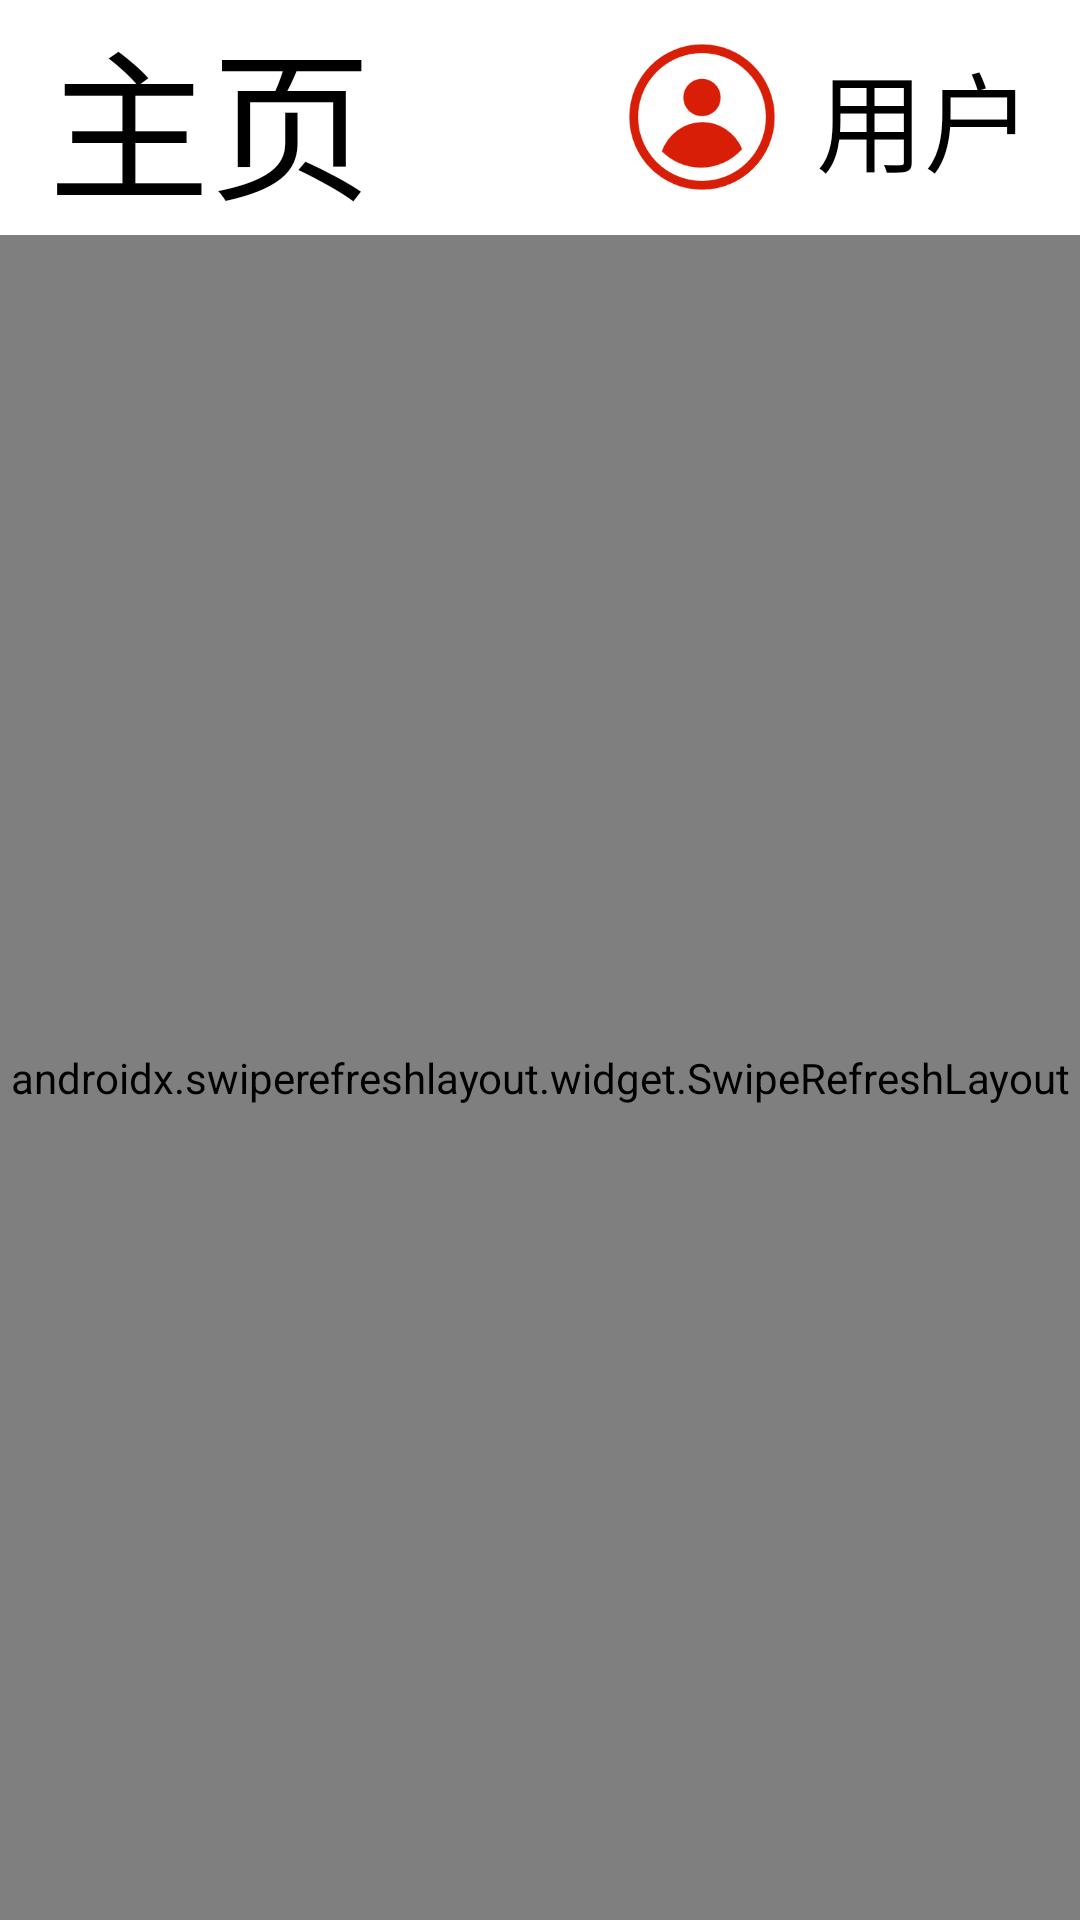

Icon click points for this 1080 x 1920 phone screenshot, format (x=x, y=y):
yonghu: (x=702, y=117)
